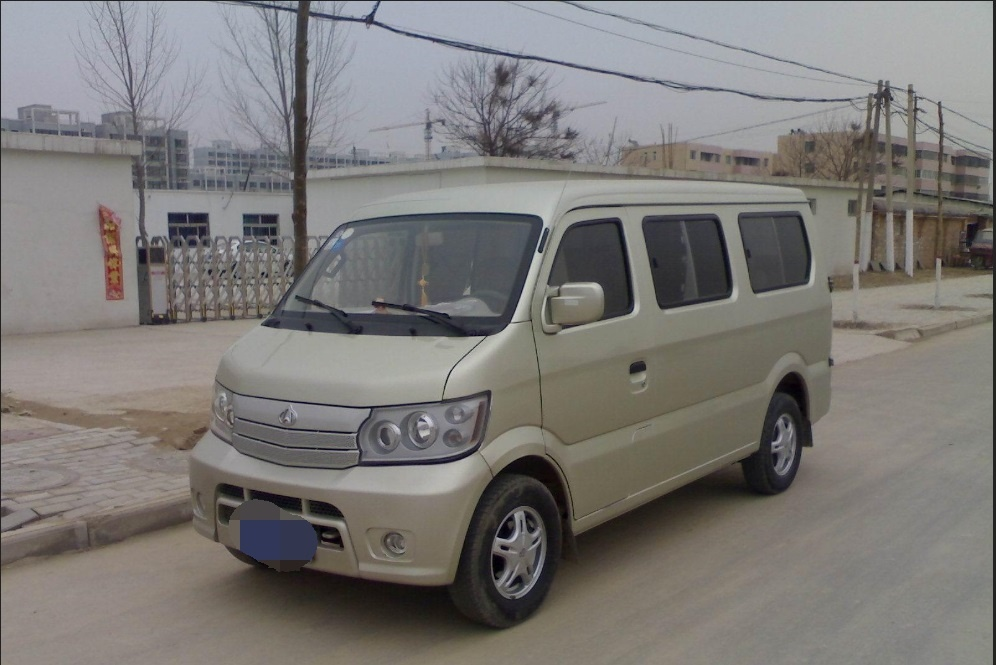minibus: (165, 176, 881, 635)
